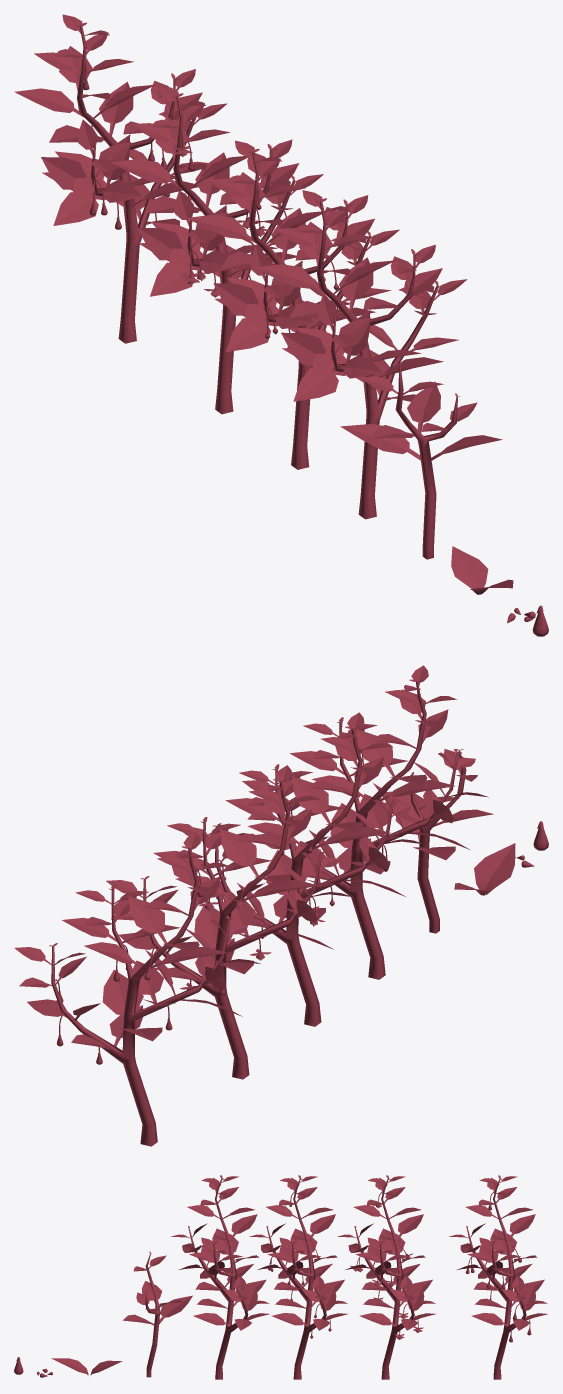
The model's file is BlooddropTexturingFile.fbx.
The picture shows the model from 3 angles, top to bottom: view 1: azimuth 30°, elevation 25°; view 2: azimuth 150°, elevation 25°; view 3: azimuth 270°, elevation 25°; orthographic projection. The views are drawn at different scales.
Visible parts, largest first — view 1: SM_Blooddrop_Growing3, SM_Blooddrop_Growing6, SM_Blooddrop_Growing5, SM_Blooddrop_Growing4, SM_Blooddrop_Growing2, SM_Blooddrop_Growing1; view 2: SM_Blooddrop_Growing6, SM_Blooddrop_Growing5, SM_Blooddrop_Growing4, SM_Blooddrop_Growing3, SM_Blooddrop_Growing2, SM_Blooddrop_Growing1; view 3: SM_Blooddrop_Growing5, SM_Blooddrop_Growing6, SM_Blooddrop_Growing4, SM_Blooddrop_Growing3, SM_Blooddrop_Growing2, SM_Blooddrop_Growing1.
Boxes of the visible parts, <box> form: SM_Blooddrop_Growing3: <box>254,190,467,519</box>; SM_Blooddrop_Growing6: <box>15,14,227,343</box>; SM_Blooddrop_Growing5: <box>111,85,323,414</box>; SM_Blooddrop_Growing4: <box>187,140,399,469</box>; SM_Blooddrop_Growing2: <box>340,362,502,559</box>; SM_Blooddrop_Growing1: <box>451,546,513,594</box>; SM_Blooddrop_Growing6: <box>14,832,260,1146</box>; SM_Blooddrop_Growing5: <box>106,765,352,1079</box>; SM_Blooddrop_Growing4: <box>183,712,424,1026</box>; SM_Blooddrop_Growing3: <box>242,665,488,979</box>; SM_Blooddrop_Growing2: <box>382,749,493,933</box>; SM_Blooddrop_Growing1: <box>454,843,515,895</box>; SM_Blooddrop_Growing5: <box>337,1175,435,1379</box>; SM_Blooddrop_Growing6: <box>449,1175,547,1379</box>; SM_Blooddrop_Growing4: <box>249,1175,347,1379</box>; SM_Blooddrop_Growing3: <box>170,1175,269,1379</box>; SM_Blooddrop_Growing2: <box>123,1251,192,1377</box>; SM_Blooddrop_Growing1: <box>51,1358,122,1375</box>.
Size of the model in its own units: 55.38 by 82.49 by 212.
